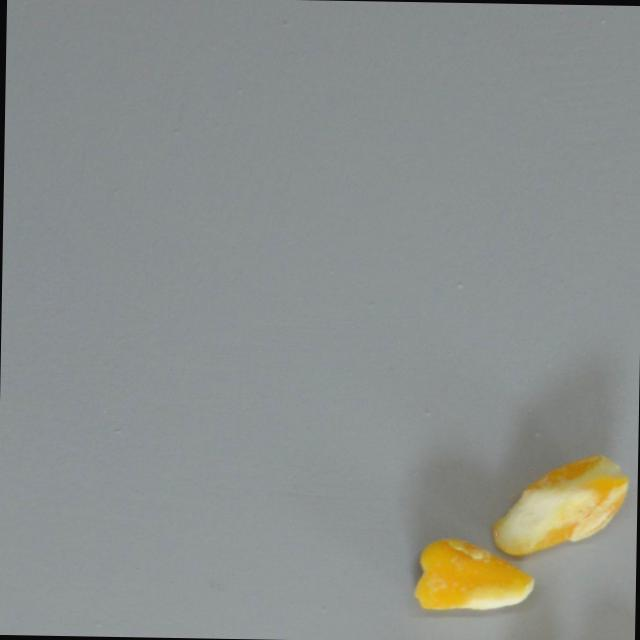pelicula: (490, 449, 632, 559), (411, 533, 535, 611)
